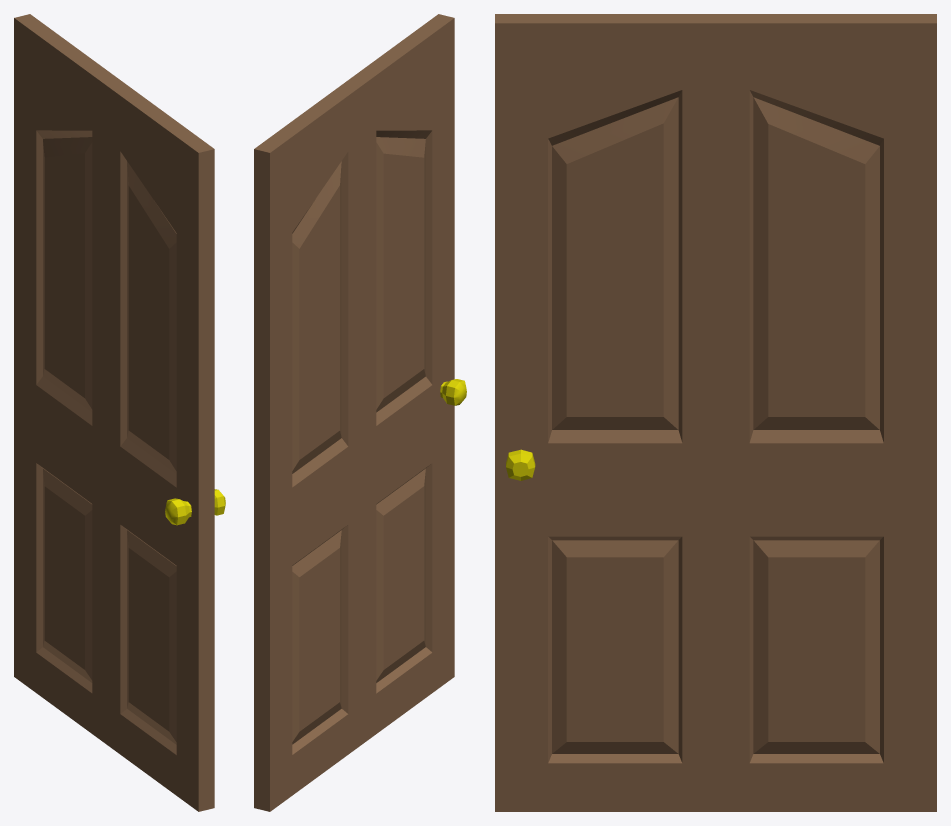
Rendered from Mansion_Door_Int.fbx.
The picture shows the model from 3 angles, left to right: view 1: azimuth 30°, elevation 25°; view 2: azimuth 150°, elevation 25°; view 3: azimuth 270°, elevation 25°; orthographic projection. The views are drawn at different scales.
Visible parts, largest first — view 1: pCube7; view 2: pCube7; view 3: pCube7.
Boxes of the visible parts, bbox=[...] form: pCube7: bbox=[14, 14, 225, 811]; pCube7: bbox=[254, 14, 466, 811]; pCube7: bbox=[495, 14, 936, 811].
Size of the model in its own units: 19.35 by 226 by 114.
